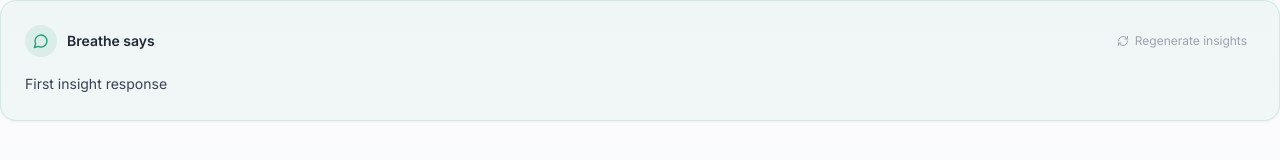
Test: AIInsights Component › clicking Regenerate triggers fetchInsight again (re-fetches)
Check: the text "First insight response" is shown, box [25,75,167,92]
Step 1. Click the button "Regenerate insights" → [1182, 41], box [1109,29,1255,53]
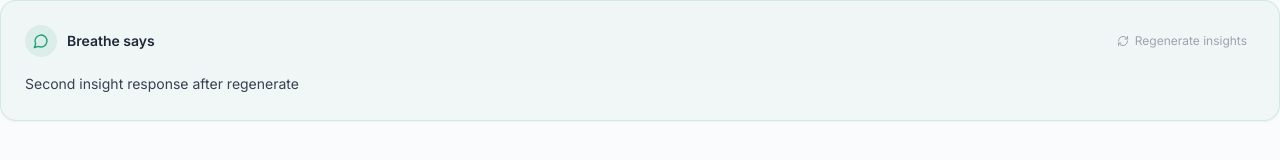
Check: the text "Second insight response after regenerate" is shown, box [25,75,299,92]
